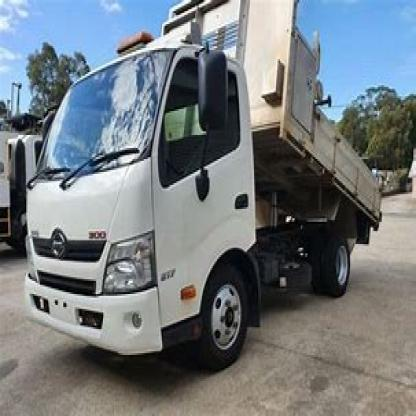dump_truck: (19, 7, 394, 392)
